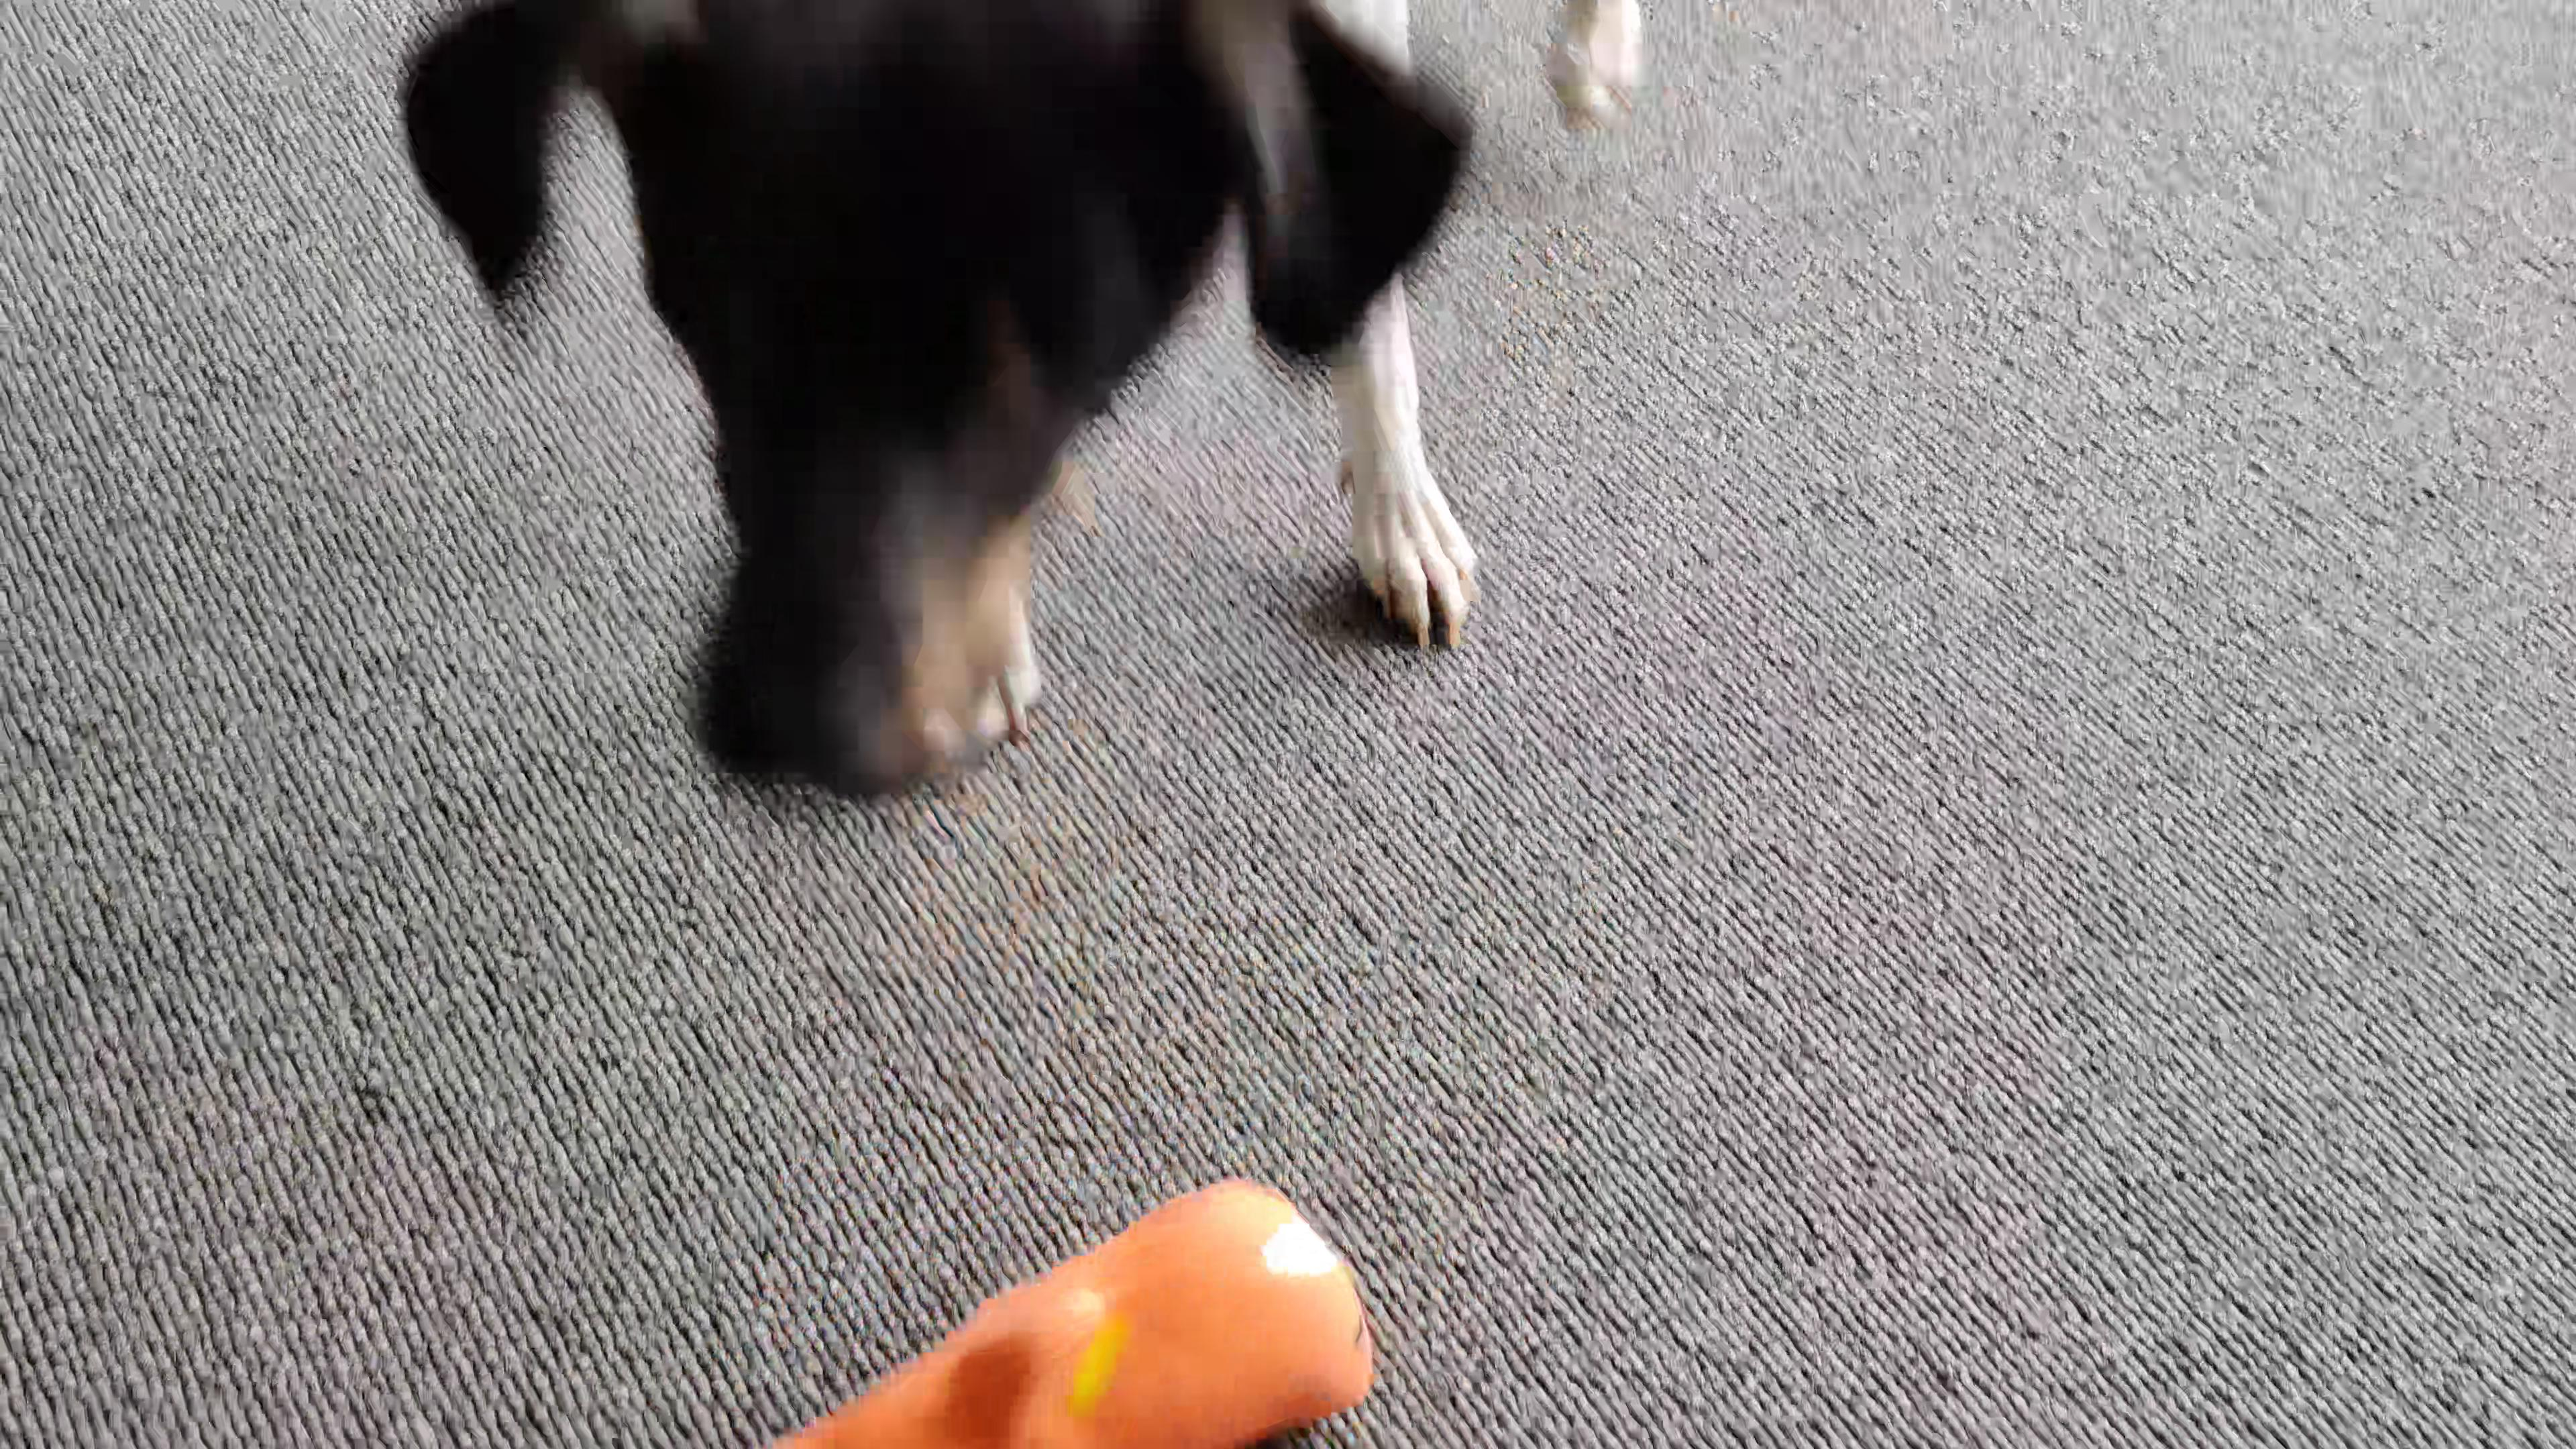Dog: (363, 0, 1670, 828)
